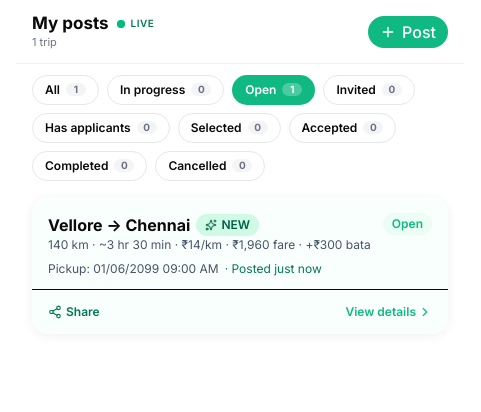
Scenario: PostedTripsPage › shows a per-status empty state when the active filter matches nothing
Click the button "Cancelled 0": [210, 166] box [155, 151, 265, 181]
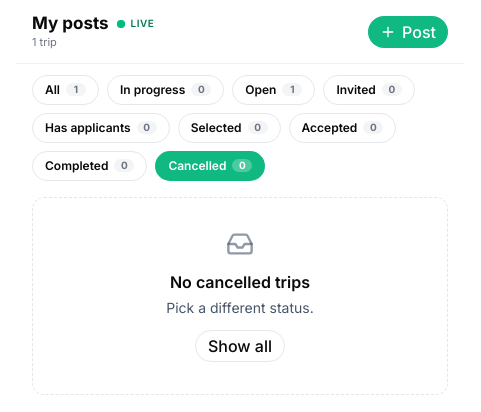
Check: the text "No cancelled trips" is shown, box [166, 270, 314, 294]
Click the button "Show all": [240, 346] box [195, 330, 285, 362]
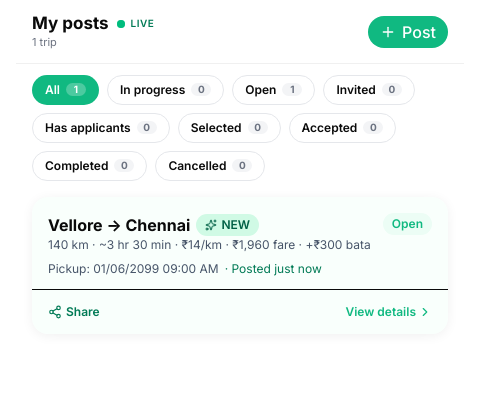
Check: the text "Vellore → Chennai" is shown, box [48, 213, 190, 237]
